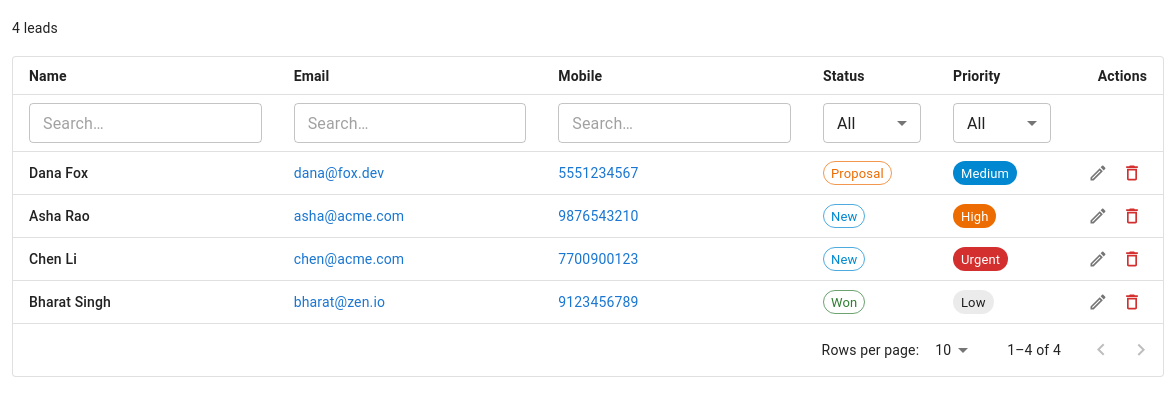
Test case: TableView (desktop table) › searches the email column
Type "acme" into the search field named "Filter by email".
click(410, 123); type("acme")  # box [294,103,526,143]
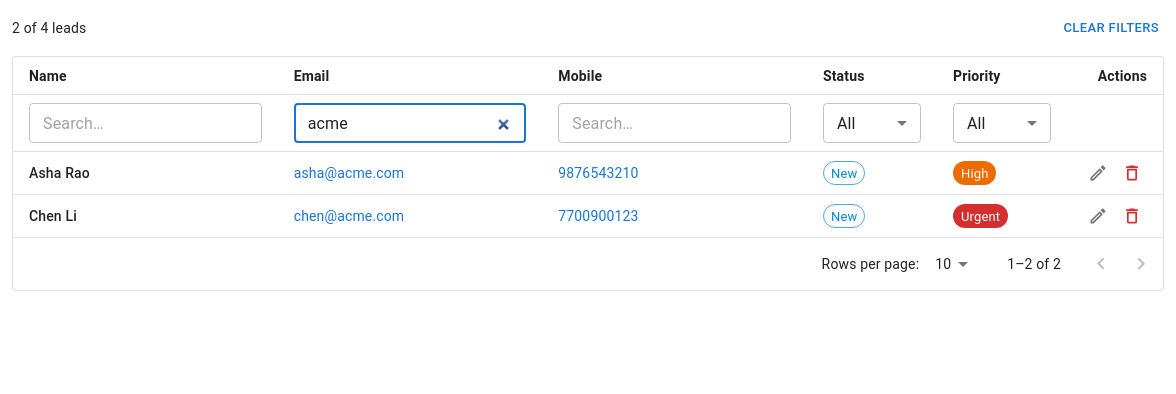
Check: the text "2 of 4 leads" is shown, box [12,18,86,38]
